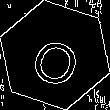O_N: (25, 24, 85, 86)
